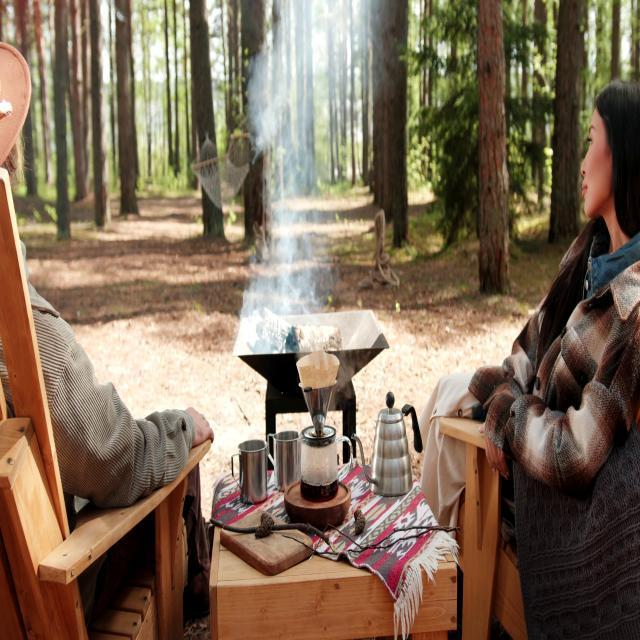Smoke: (219, 0, 389, 348)
